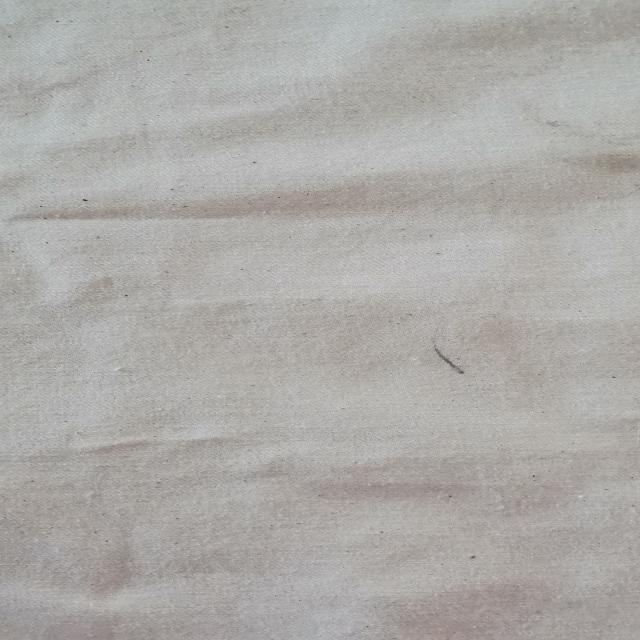taaaches: (400, 332, 509, 386), (550, 138, 636, 180)
